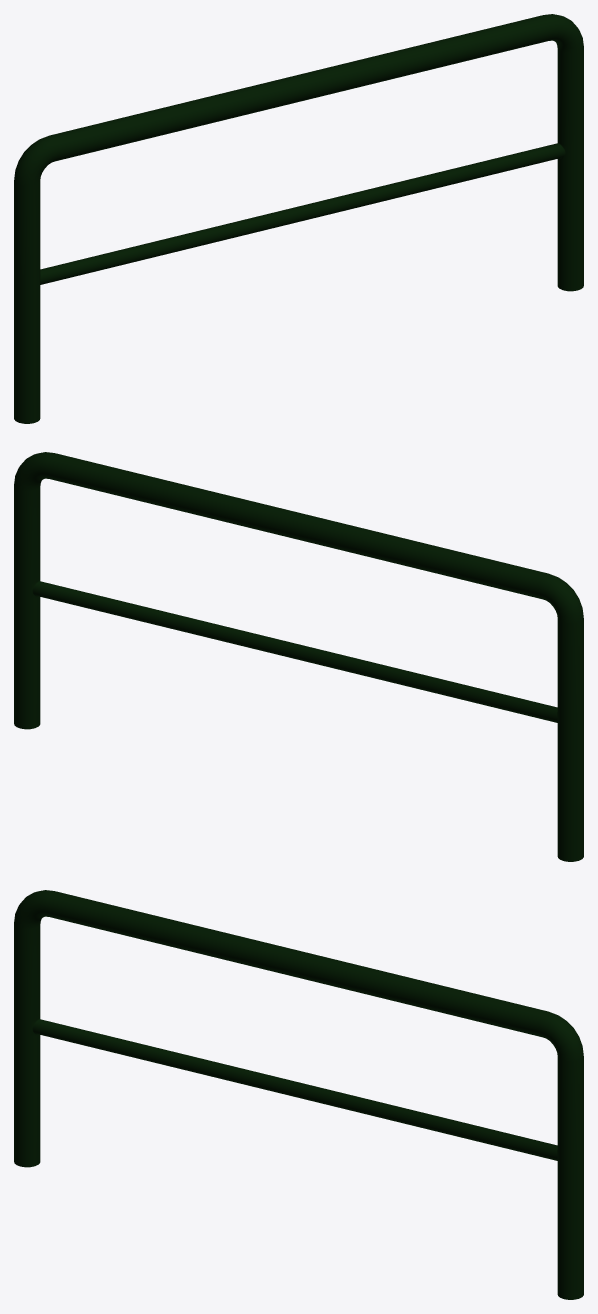
Rendered from guard pipe.fbx.
3 views of the same model, one above another, from view 1: azimuth 30°, elevation 25°; view 2: azimuth 150°, elevation 25°; view 3: azimuth 330°, elevation 25° (orthographic).
Visible parts, largest first — view 1: guard pipe; view 2: guard pipe; view 3: guard pipe.
Part boxes in pixels (x1,y1,x2,y2): guard pipe: (14,14,583,423); guard pipe: (14,452,583,861); guard pipe: (14,890,583,1299).
Size of the model in its own units: 1.72 by 0.8 by 0.07.
1 material, 1 textured.
